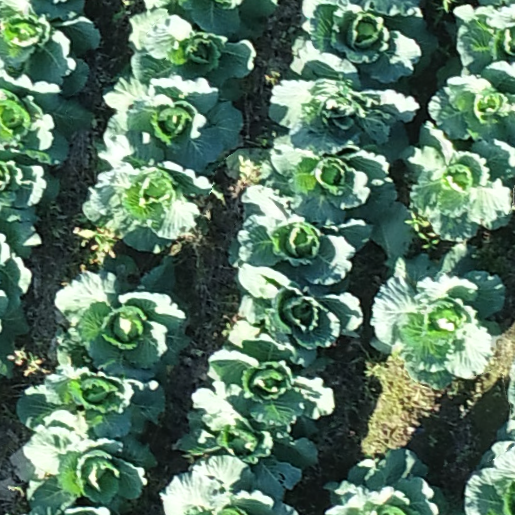Cabbage: (371, 244, 503, 389), (267, 39, 419, 158), (54, 254, 190, 380), (174, 382, 318, 500), (82, 132, 212, 253), (227, 137, 397, 226), (205, 324, 337, 436), (102, 73, 243, 174), (232, 184, 372, 285), (403, 121, 515, 243), (236, 263, 363, 368), (11, 426, 160, 515), (127, 6, 258, 100), (301, 0, 438, 85), (15, 364, 167, 440), (0, 0, 102, 94), (0, 71, 95, 163), (322, 448, 451, 515), (158, 456, 299, 515), (426, 57, 515, 147), (144, 0, 281, 42), (452, 4, 515, 75), (0, 142, 59, 210), (0, 206, 40, 302), (465, 441, 515, 515), (0, 289, 30, 379)
